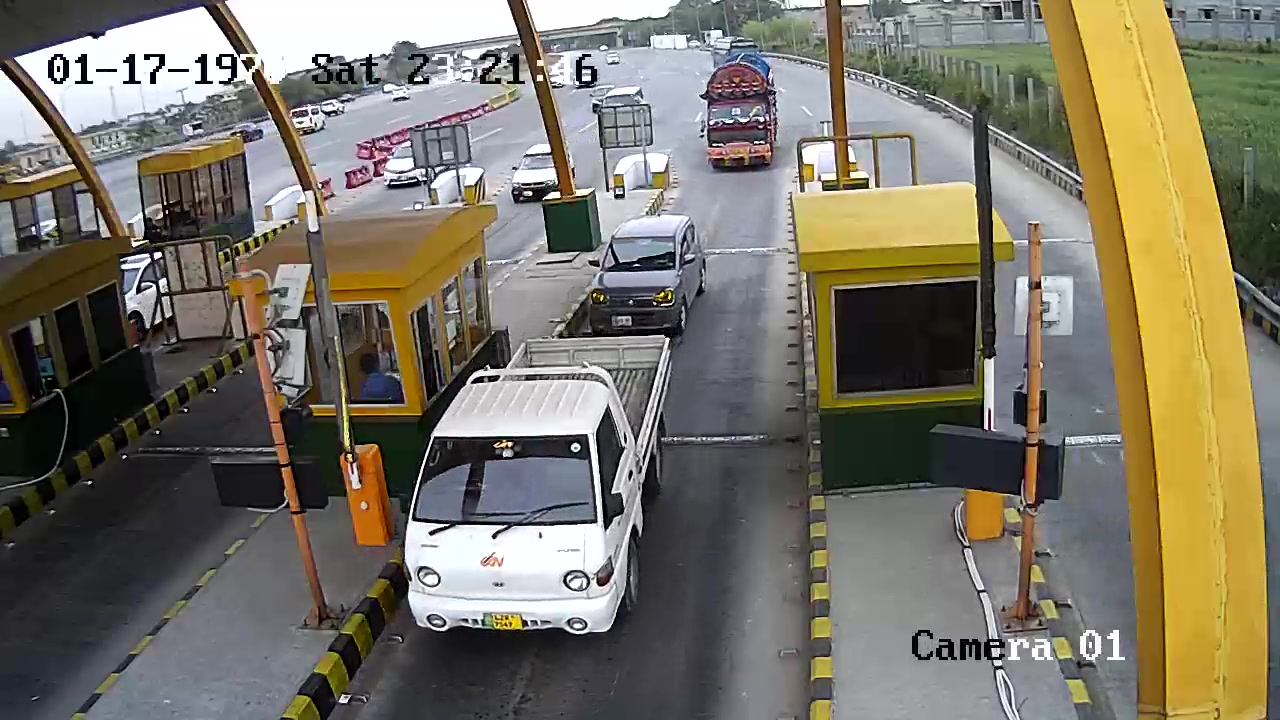F1: (582, 210, 712, 330)
F2: (404, 335, 684, 638)
